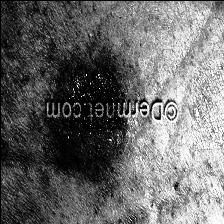Toxin: (60, 119, 125, 176), (68, 68, 122, 98)
